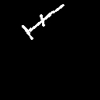double_crochet: (22, 4, 63, 39)
